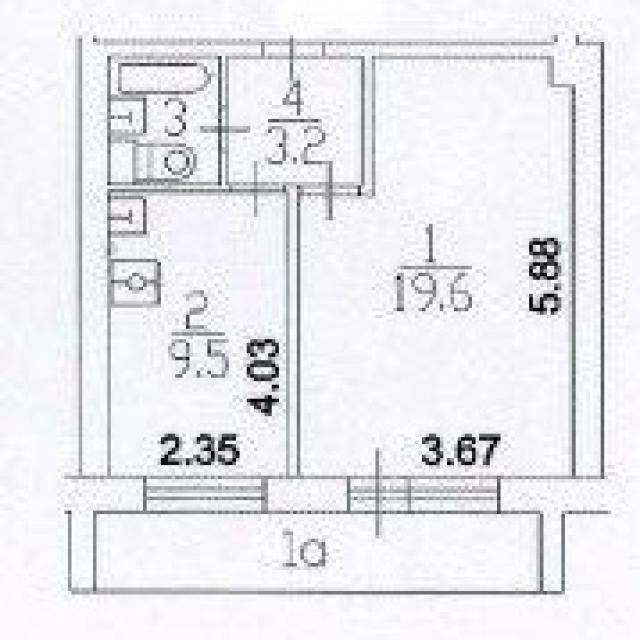Bathrooms: (113, 62, 216, 180)
Corridors: (97, 515, 539, 593), (231, 62, 362, 182)
Doors: (348, 443, 412, 543), (303, 159, 360, 222), (260, 31, 325, 82), (231, 160, 285, 218), (198, 107, 251, 153)
LBwalls: (546, 39, 605, 474), (75, 35, 111, 475), (500, 474, 615, 514), (60, 475, 146, 515), (267, 476, 349, 513)
Offices: (303, 59, 567, 474), (111, 200, 287, 475)
Walls: (326, 39, 556, 199), (111, 37, 260, 106), (110, 152, 233, 196), (288, 183, 302, 477), (538, 515, 567, 595), (69, 513, 97, 595)
Windows: (143, 475, 268, 515), (410, 475, 501, 513)
